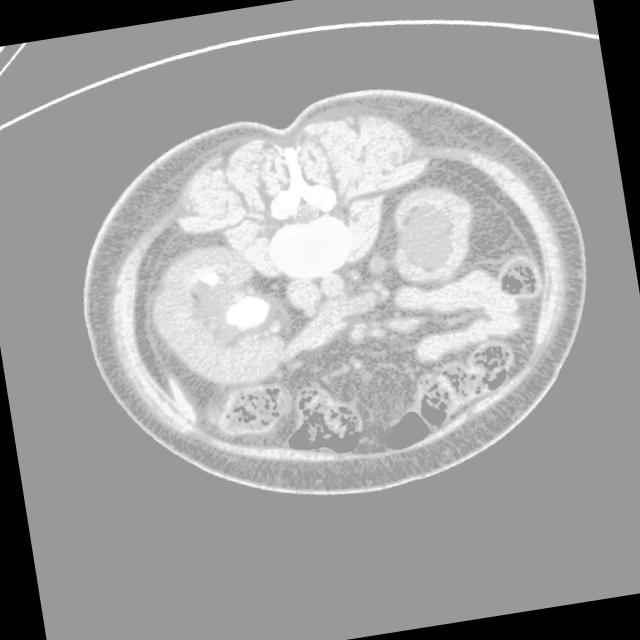STONE: (205, 236, 578, 502)
